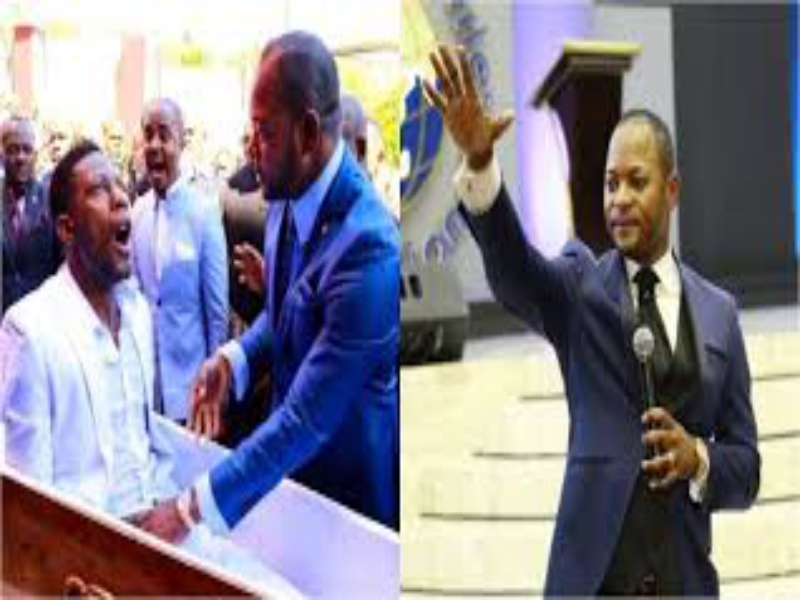TsisyArotava: (41, 142, 148, 287), (596, 108, 673, 261)
